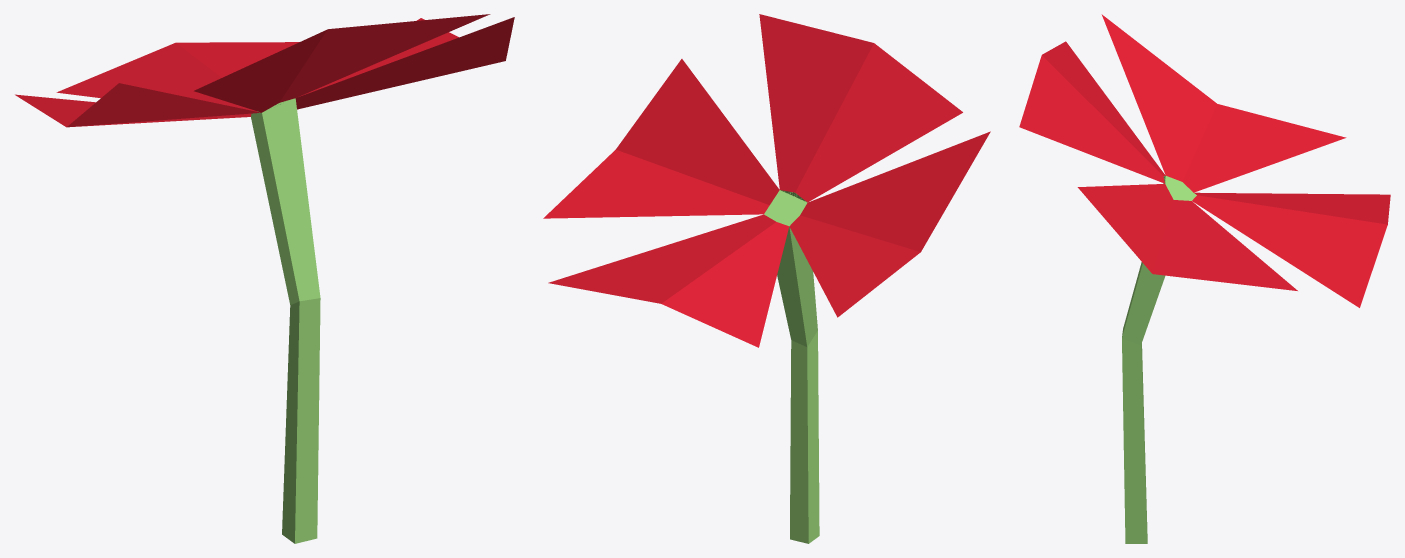
The model's file is flower_1.fbx.
The picture shows the model from 3 angles, left to right: view 1: azimuth 30°, elevation 25°; view 2: azimuth 150°, elevation 25°; view 3: azimuth 270°, elevation 25°; orthographic projection. The views are drawn at different scales.
Parts seen in each view (by area): view 1: leaves, steam; view 2: leaves, steam; view 3: leaves, steam.
Boxes of the visible parts, <box> form: leaves: <box>15,14,514,127</box>; steam: <box>251,98,320,543</box>; leaves: <box>543,14,990,347</box>; steam: <box>764,190,819,543</box>; leaves: <box>1019,14,1390,307</box>; steam: <box>1122,175,1196,543</box>.
Size of the model in its own units: 20.02 by 25.41 by 18.08.
